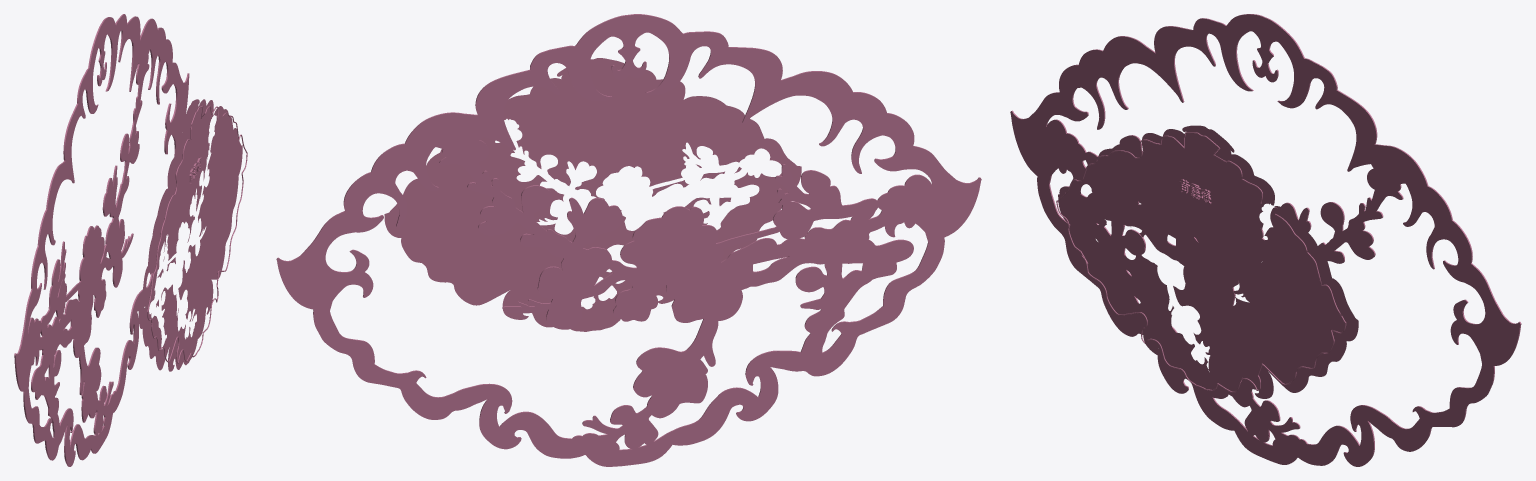
File: test_engraved_metalflwr.glb
3 renders of one model, left to right at view 1: azimuth 30°, elevation 25°; view 2: azimuth 150°, elevation 25°; view 3: azimuth 270°, elevation 25°, orthographic. The views are drawn at different scales.
Visible parts, largest first — view 1: outlineCurve.001, MA_Artboard 2.svg, Curve; view 2: outlineCurve.001, MA_Artboard 2.svg; view 3: outlineCurve.001, MA_Artboard 2.svg, Curve.
Boxes of the visible parts, x1,y1,x2,y2 form: outlineCurve.001: (14,14,189,466); MA_Artboard 2.svg: (138,99,242,371); Curve: (147,105,247,363); outlineCurve.001: (276,14,981,466); MA_Artboard 2.svg: (384,58,801,331); outlineCurve.001: (1010,14,1521,466); MA_Artboard 2.svg: (1058,125,1358,400); Curve: (1056,132,1346,392).
Bounding box in the file's own units: 2.23 × 2.15 × 2.25.
